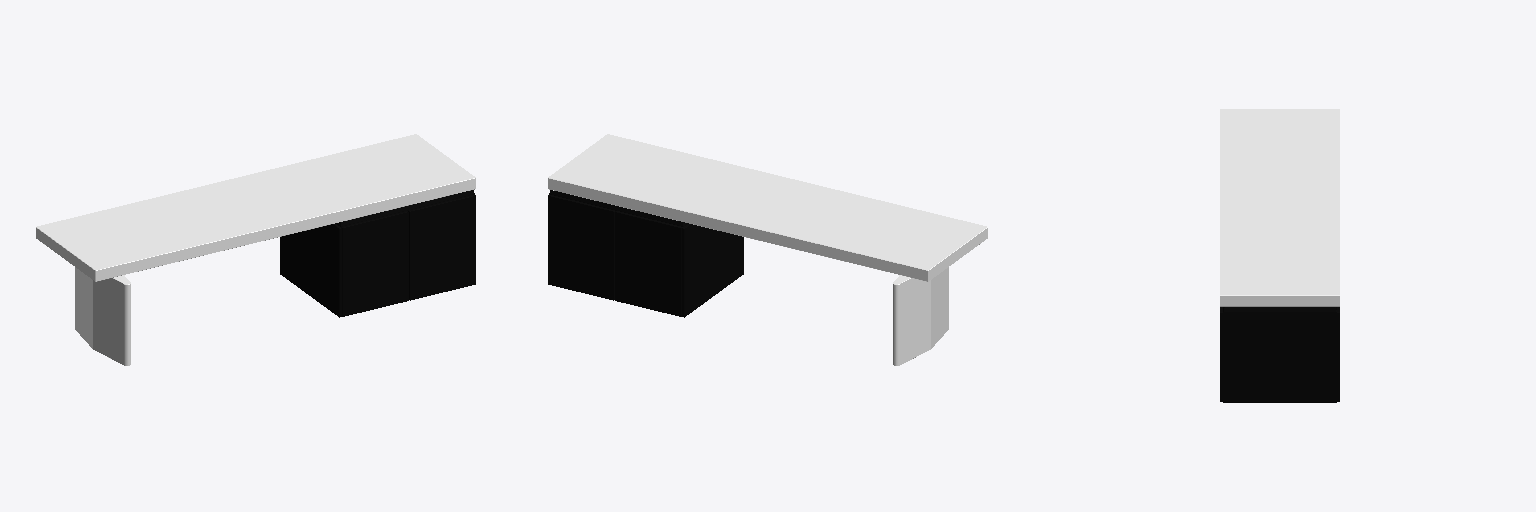
The model's file is 1banan1.obj.
3 renders of one model, left to right at view 1: azimuth 30°, elevation 25°; view 2: azimuth 150°, elevation 25°; view 3: azimuth 270°, elevation 25°, orthographic.
Parts seen in each view (by area): view 1: Object056_Mesh.022, Component#11_002_Mesh.019, OuterShell_002_Mesh.020; view 2: Object056_Mesh.022, Component#11_002_Mesh.019, OuterShell_002_Mesh.020; view 3: Object056_Mesh.022, Component#11_002_Mesh.019.
Part boxes in pixels (bbox=[...]): Object056_Mesh.022: bbox=[36, 134, 475, 281]; Component#11_002_Mesh.019: bbox=[280, 190, 475, 317]; OuterShell_002_Mesh.020: bbox=[75, 267, 130, 365]; Object056_Mesh.022: bbox=[548, 134, 987, 281]; Component#11_002_Mesh.019: bbox=[548, 190, 743, 317]; OuterShell_002_Mesh.020: bbox=[893, 267, 948, 365]; Object056_Mesh.022: bbox=[1220, 109, 1339, 306]; Component#11_002_Mesh.019: bbox=[1220, 307, 1339, 402].
Bounding box in the file's own units: 2.78 × 0.75 × 0.76.